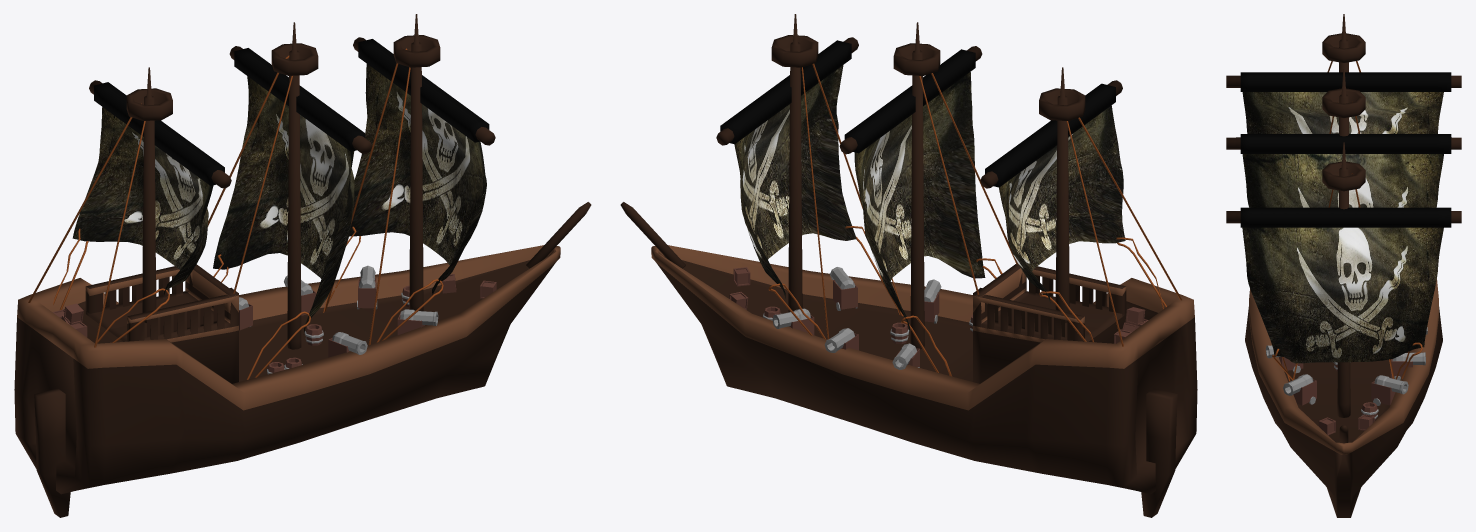
Rendered from pirate_ship.glb.
The picture shows the model from 3 angles, left to right: view 1: azimuth 30°, elevation 25°; view 2: azimuth 150°, elevation 25°; view 3: azimuth 270°, elevation 25°; orthographic projection. The views are drawn at different scales.
Visible parts, largest first — view 1: Cube (×7), Cube.003 (×2); view 2: Cube (×7), Cube.003 (×2); view 3: Cube (×7), Cube.003 (×2).
Boxes of the visible parts, box(x1,y1,x2,y2) form: Cube (×7): box(14, 14, 591, 517); Cube.003 (×2): box(64, 265, 438, 374); Cube (×7): box(620, 14, 1197, 517); Cube.003 (×2): box(763, 267, 1145, 369); Cube (×7): box(1226, 14, 1461, 517); Cube.003 (×2): box(1265, 327, 1427, 420).
Size of the model in its own units: 14.05 by 10.57 by 5.74.
Materials: 9 (3 with a texture image).
